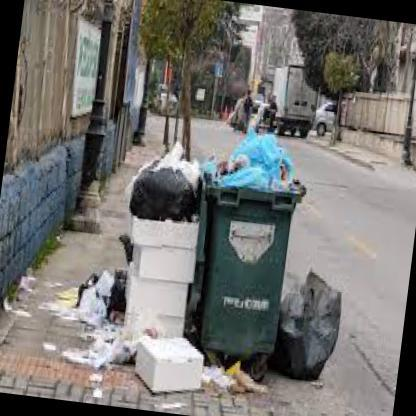Garbage: (270, 264, 348, 386), (200, 124, 293, 195), (70, 228, 130, 330), (126, 152, 200, 223)
